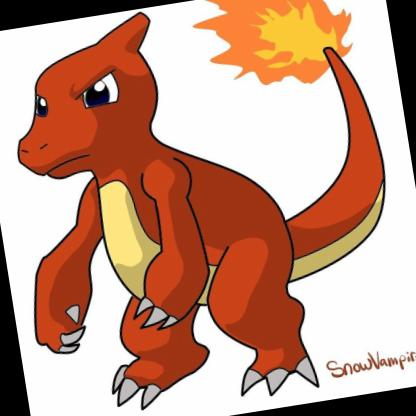Charmeleon: (1, 1, 416, 416)
